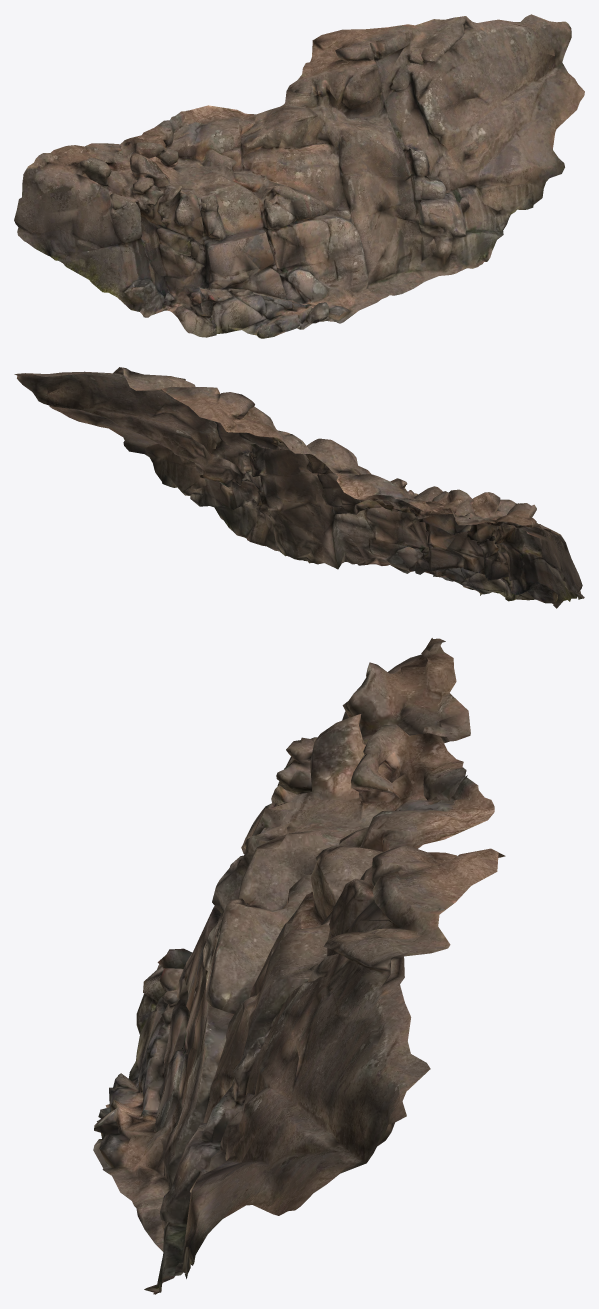
Rendered from namaqualand_cliff_02_mid.glb.
3 views of the same model, one above another, from view 1: azimuth 30°, elevation 25°; view 2: azimuth 150°, elevation 25°; view 3: azimuth 270°, elevation 25° (orthographic). The views are drawn at different scales.
Parts seen in each view (by area): view 1: drone_rock_02_LOD0; view 2: drone_rock_02_LOD0; view 3: drone_rock_02_LOD0.
Boxes of the visible parts, bbox=[...] form: drone_rock_02_LOD0: bbox=[14, 14, 584, 338]; drone_rock_02_LOD0: bbox=[14, 367, 584, 608]; drone_rock_02_LOD0: bbox=[93, 638, 505, 1294].
Size of the model in its own units: 20.23 by 7.17 by 6.57.
Materials: 1 (1 with a texture image).
